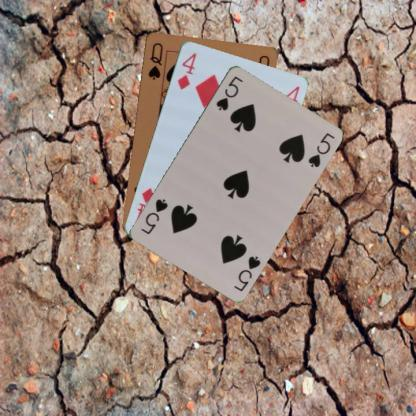4d: (174, 50, 198, 90)
5s: (231, 252, 262, 293), (214, 73, 245, 111)
Qs: (145, 40, 164, 81)
